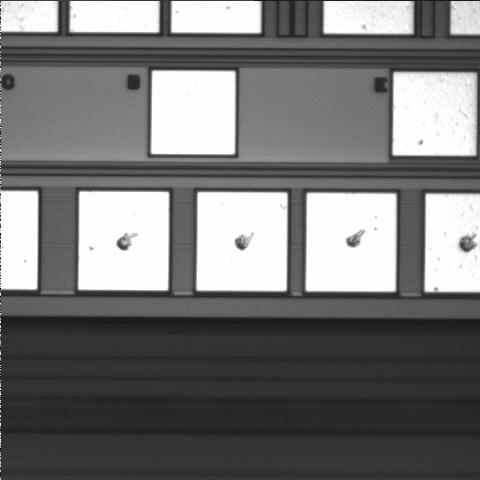pad: (78, 192, 169, 290), (197, 192, 287, 291), (306, 193, 396, 291), (151, 71, 235, 154), (393, 73, 476, 155)
